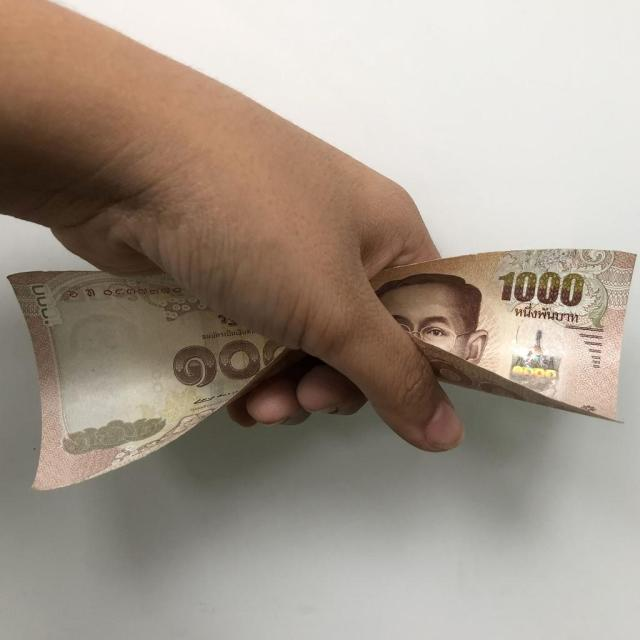THAI1000: (8, 271, 303, 489), (372, 249, 634, 421)
